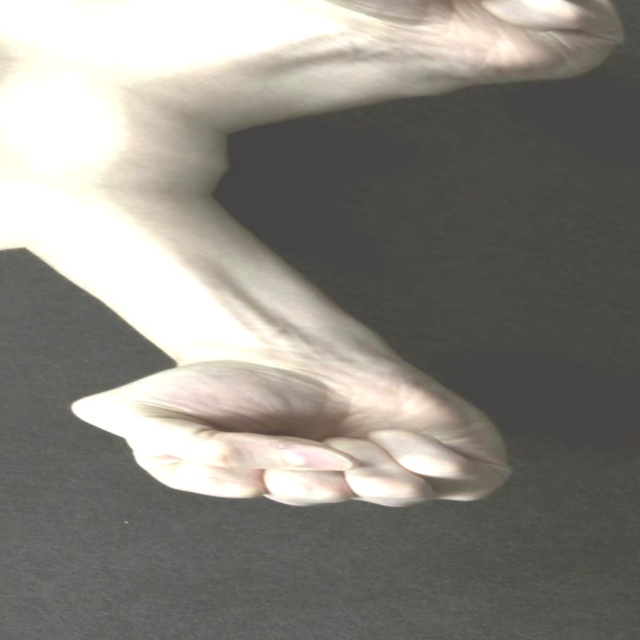Rock: (12, 267, 570, 601)
